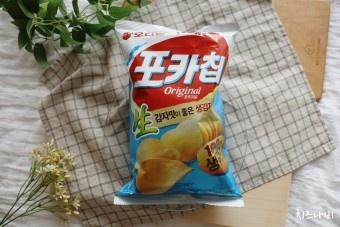snack: (114, 19, 245, 207)
